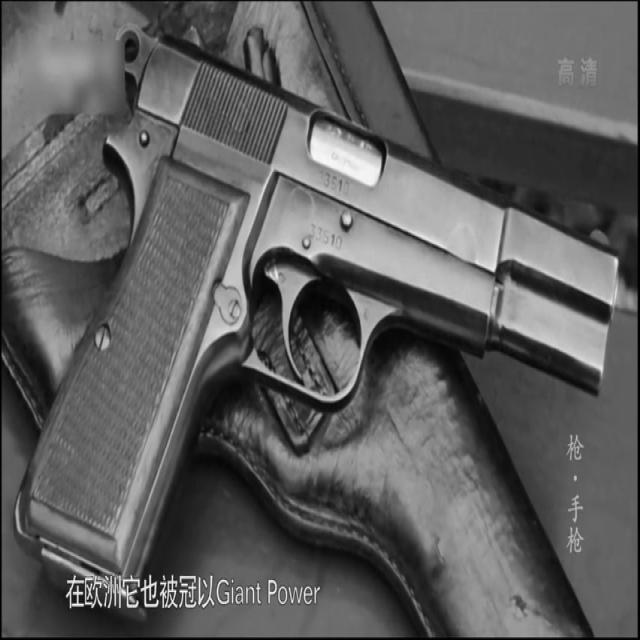Hand-Gun: (12, 2, 626, 572)
